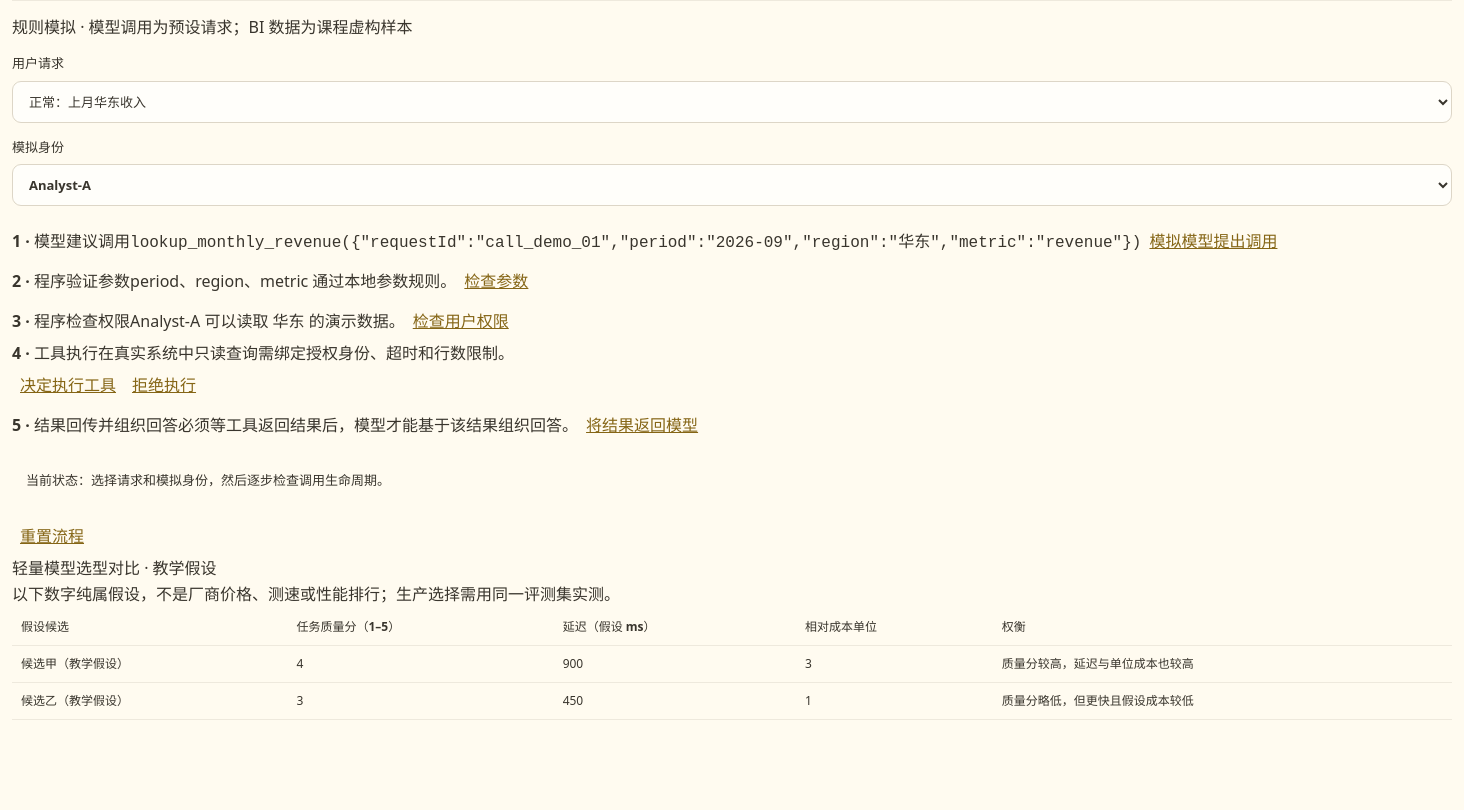
U05–U08 local experiments › blocks a user without regional access before tool execution
The image size is (1464, 810).
Select "权限不足：Analyst-B 查华东" in the dropdown labelled "用户请求" at (732, 102), box [12,80,1452,122]
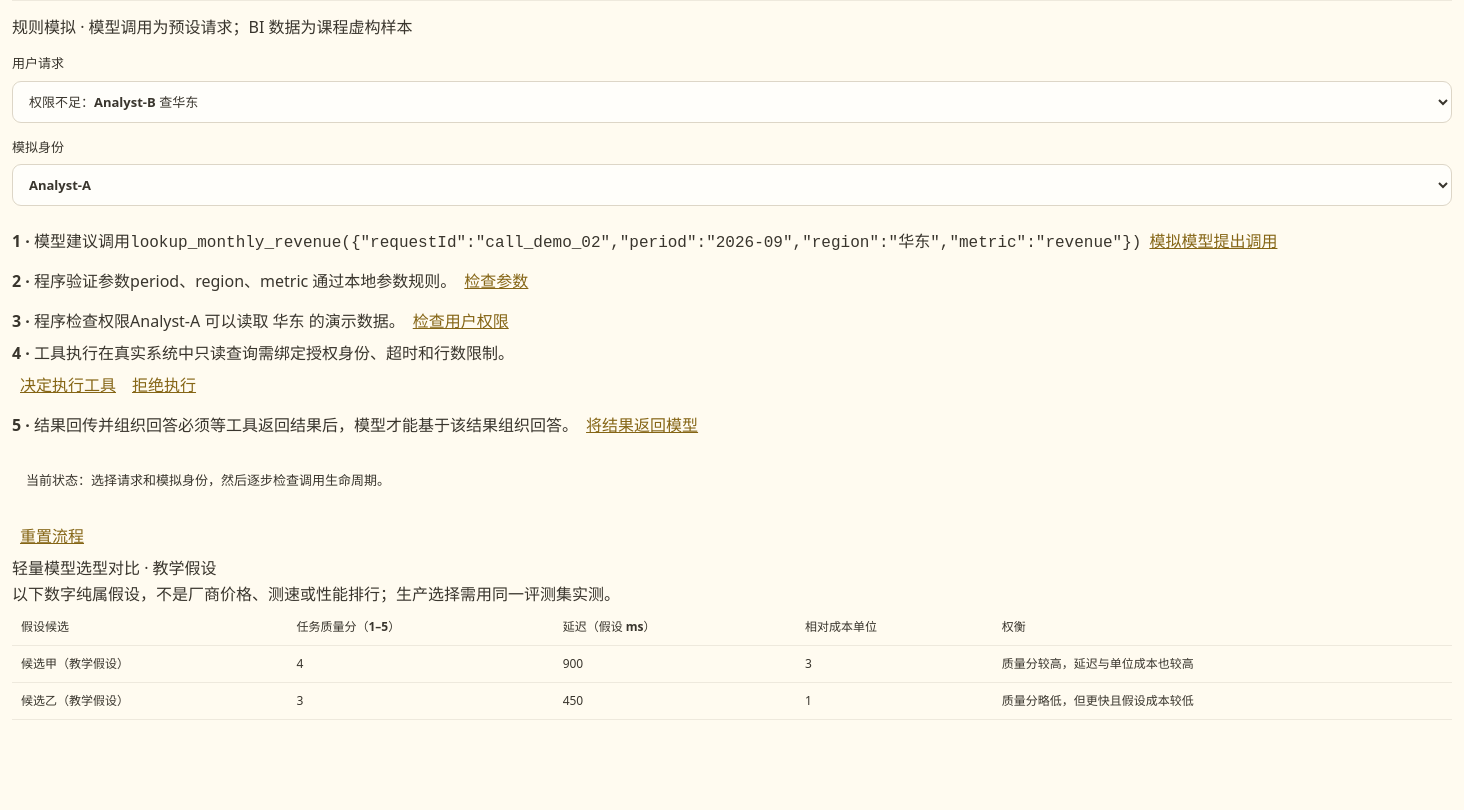
Select "Analyst-B" in the dropdown labelled "模拟身份" at (732, 185), box [12,164,1452,206]
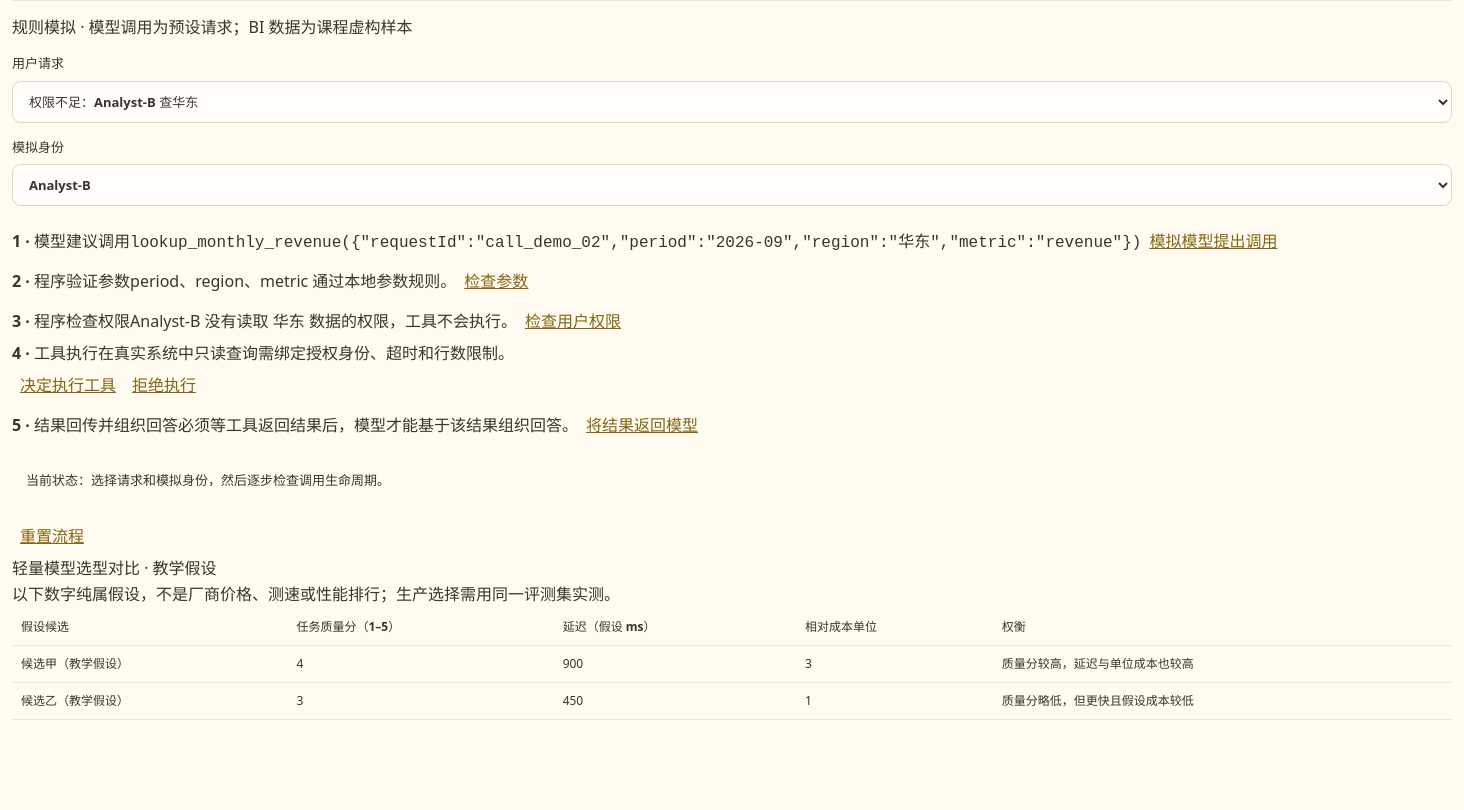
Click the button "模拟模型提出调用" at (1213, 241), box [1141,221,1285,261]
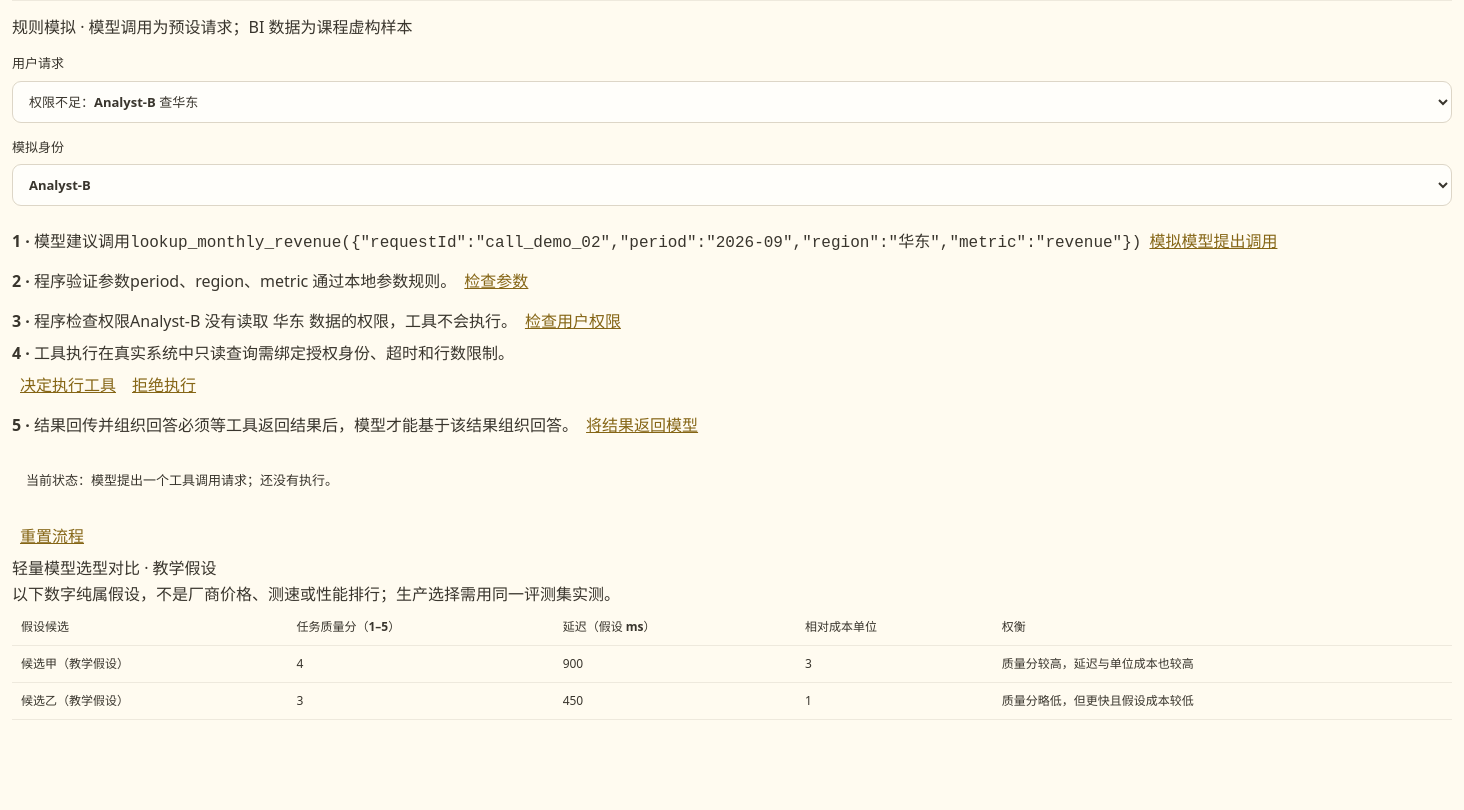
Click the button "检查参数" at (496, 281), box [456,261,536,301]
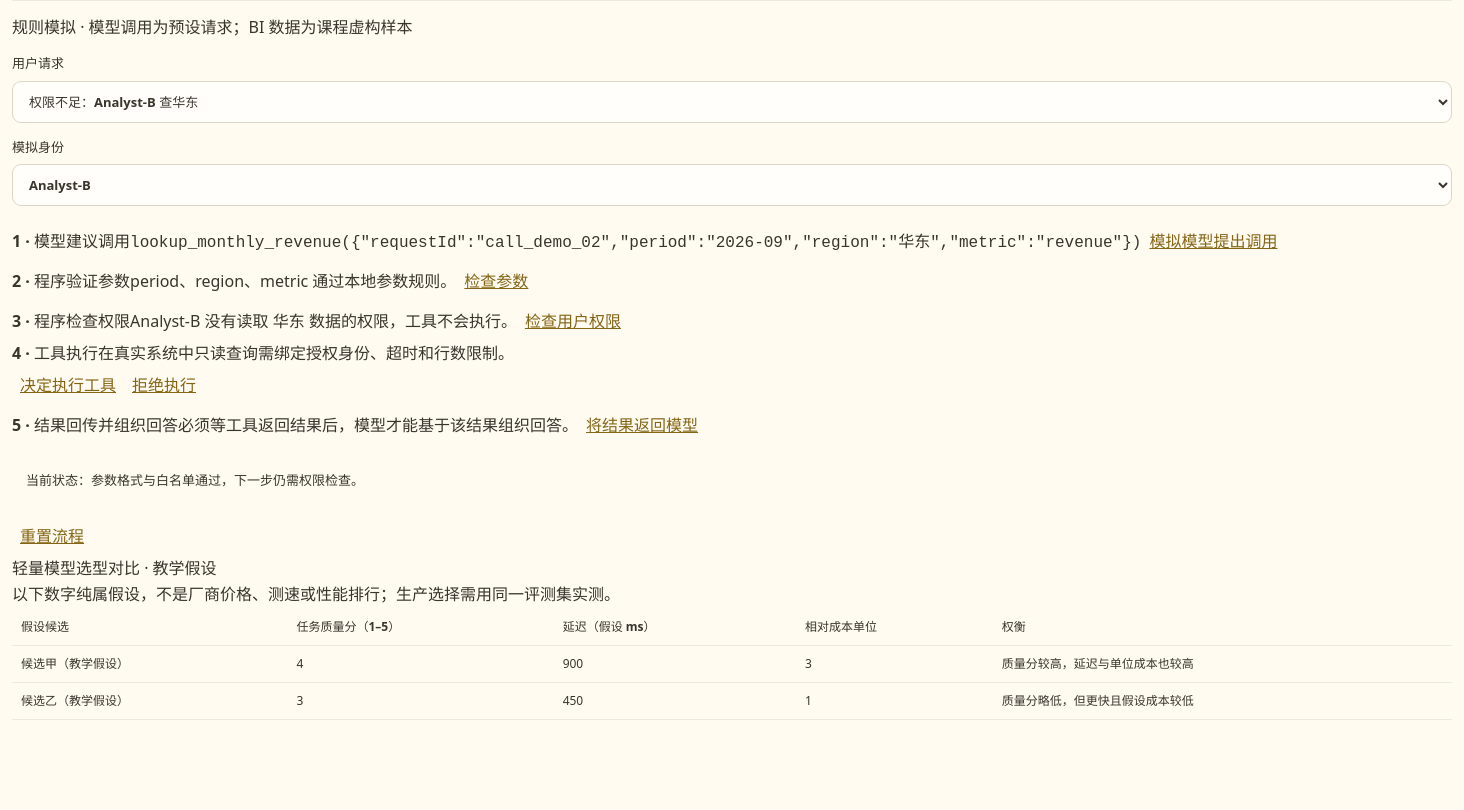
Click the button "检查用户权限" at (573, 321), box [517,301,629,341]
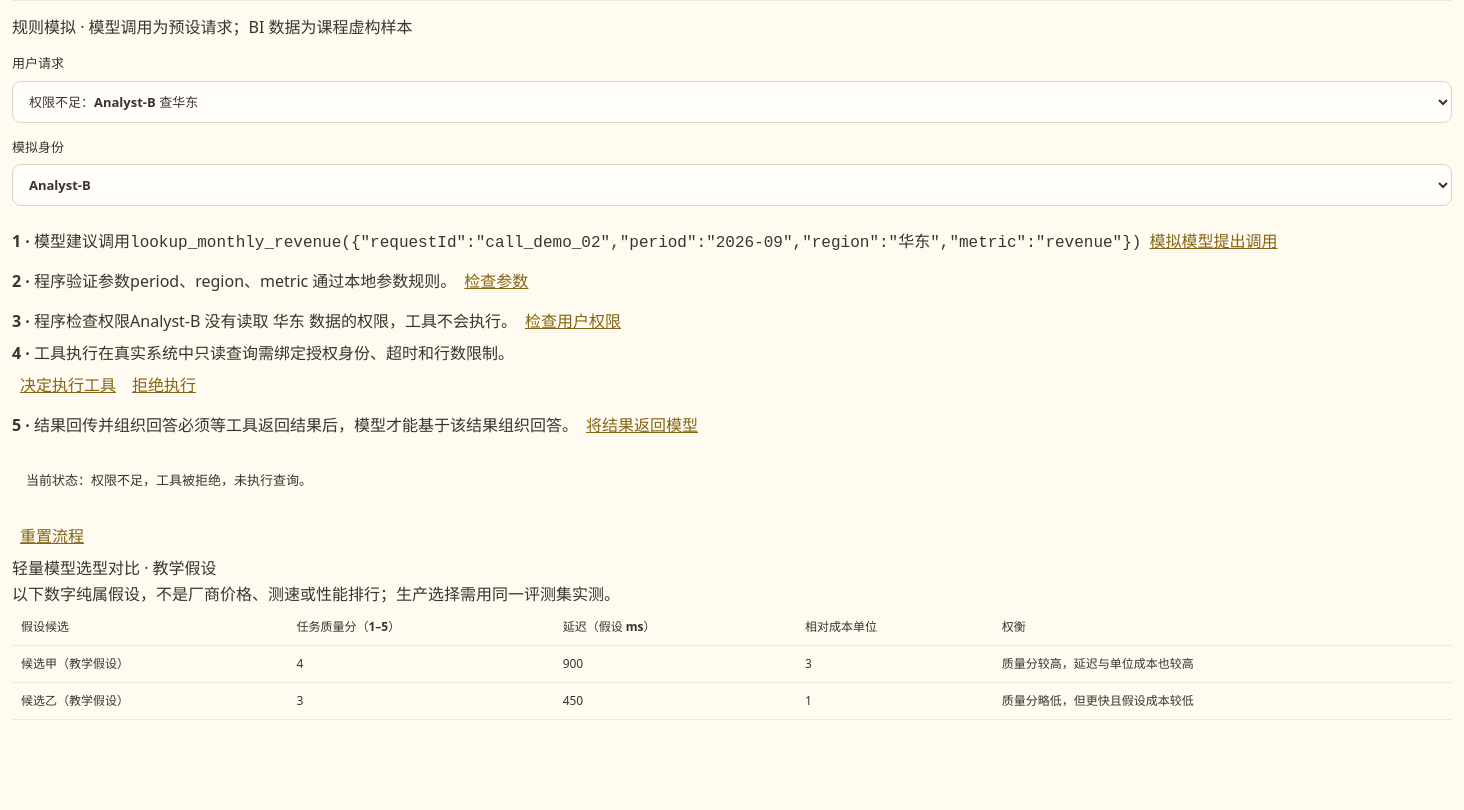
Expected: the button "决定执行工具" is disabled, [12,365,124,405]
Now the text "当前状态：权限不足，工具被拒绝，未执行查询。" is shown, box [26,471,312,489]
